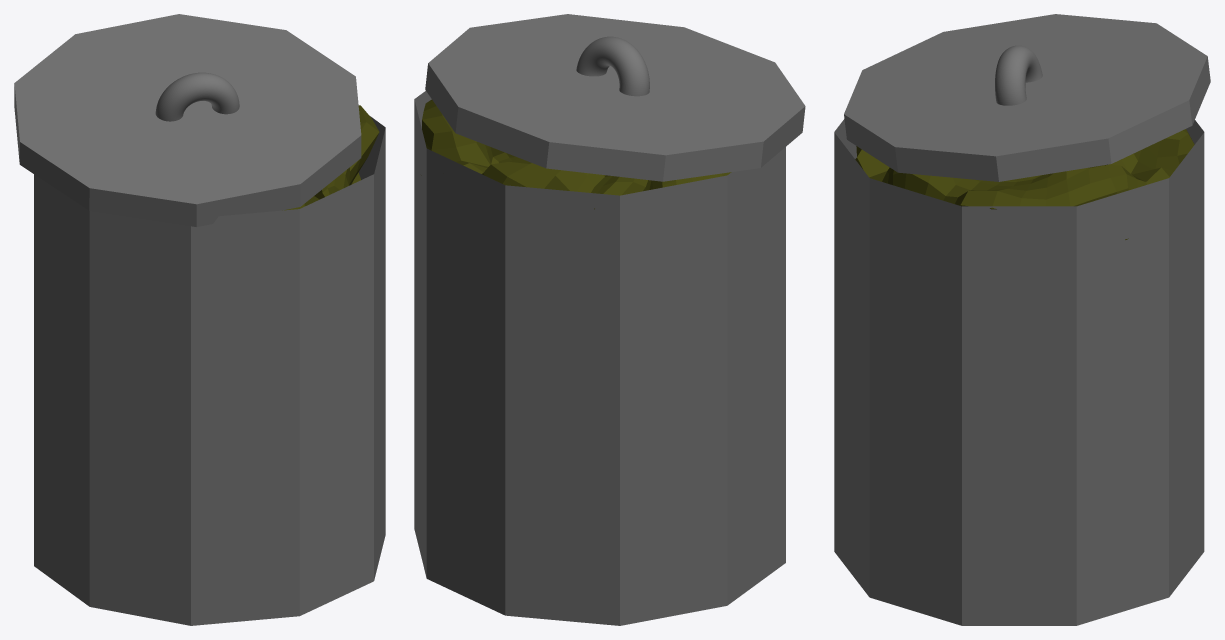
The model's file is mulltonne.fbx.
3 renders of one model, left to right at view 1: azimuth 30°, elevation 25°; view 2: azimuth 150°, elevation 25°; view 3: azimuth 270°, elevation 25°, orthographic. The views are drawn at different scales.
Visible parts, largest first — view 1: Zylinder, Zylinder.001, Kugel; view 2: Zylinder, Zylinder.001, Kugel; view 3: Zylinder, Zylinder.001, Kugel.
Part boxes in pixels (box(x1,y1,x2,y2)): Zylinder: box(34, 116, 385, 625); Zylinder.001: box(14, 14, 361, 226); Kugel: box(282, 105, 379, 210); Zylinder: box(414, 91, 785, 625); Zylinder.001: box(425, 14, 805, 181); Kugel: box(421, 99, 731, 209); Zylinder: box(834, 119, 1204, 625); Zylinder.001: box(844, 14, 1210, 181); Kugel: box(855, 129, 1194, 239).
Bounding box in the file's own units: 82.47 × 118 × 81.36.
